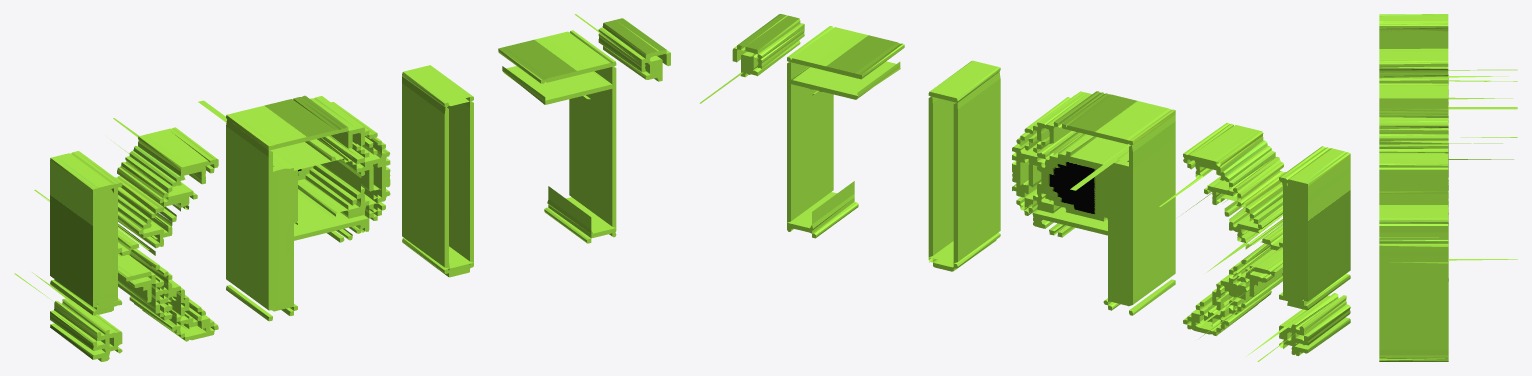
Rendered from kpit-technologies-limited.glb.
The picture shows the model from 3 angles, left to right: view 1: azimuth 30°, elevation 25°; view 2: azimuth 150°, elevation 25°; view 3: azimuth 270°, elevation 25°; orthographic projection. The views are drawn at different scales.
Parts seen in each view (by area): view 1: Curve; view 2: Curve; view 3: Curve.
Boxes of the visible parts, x1,y1,x2,y2 form: Curve: (14,14,670,361); Curve: (699,14,1350,361); Curve: (1379,14,1517,361).
Bounding box in the file's own units: 0.0389 × 0.0113 × 0.01.
1 material, 1 textured.
